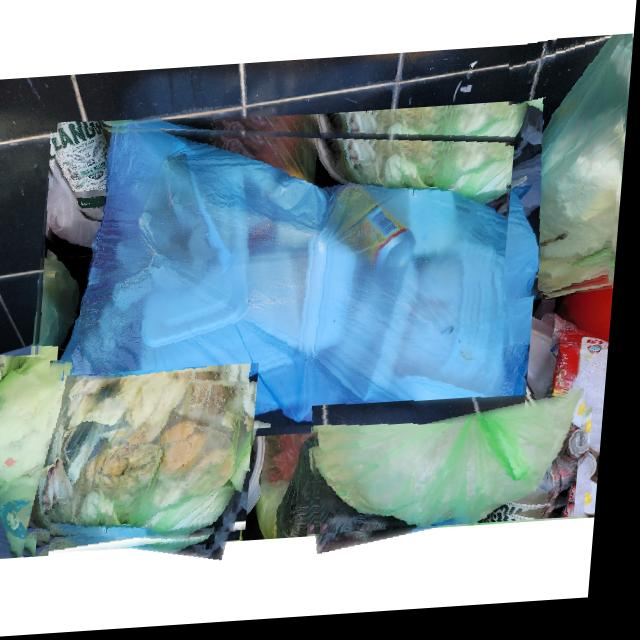general_trashbag: (47, 377, 261, 546), (320, 400, 590, 533), (510, 43, 627, 303), (0, 361, 71, 559)
other_trashbag: (37, 130, 540, 444)
